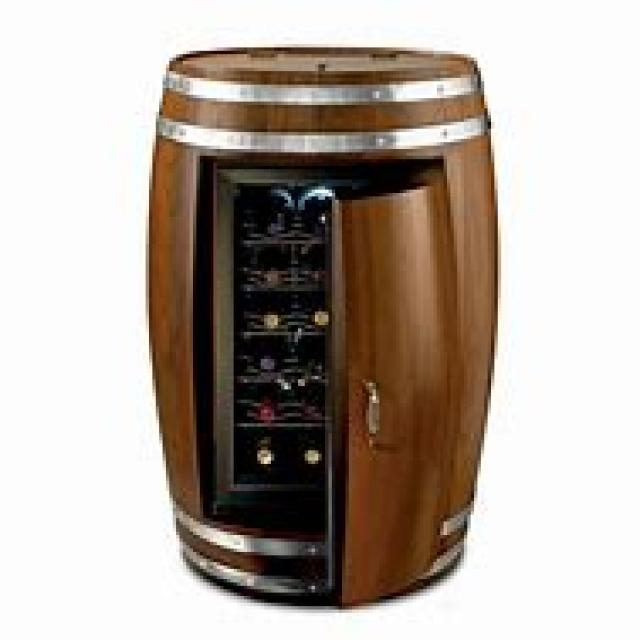fridge: (142, 44, 498, 606)
